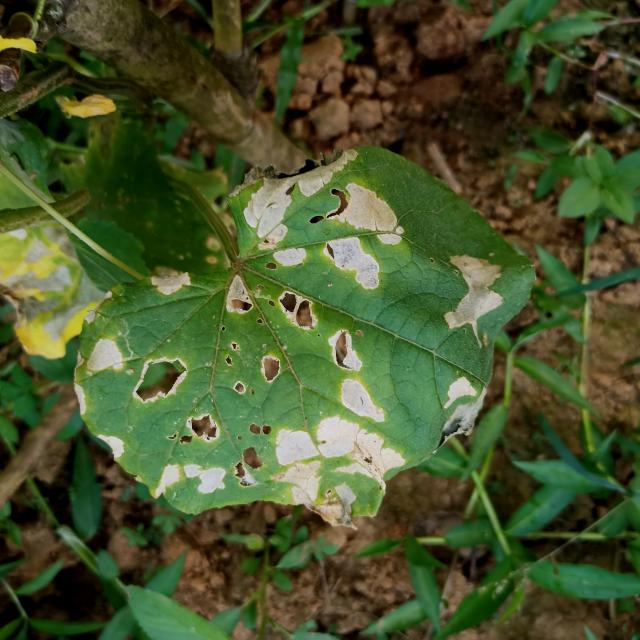disease_cucumber: (87, 156, 508, 496)
